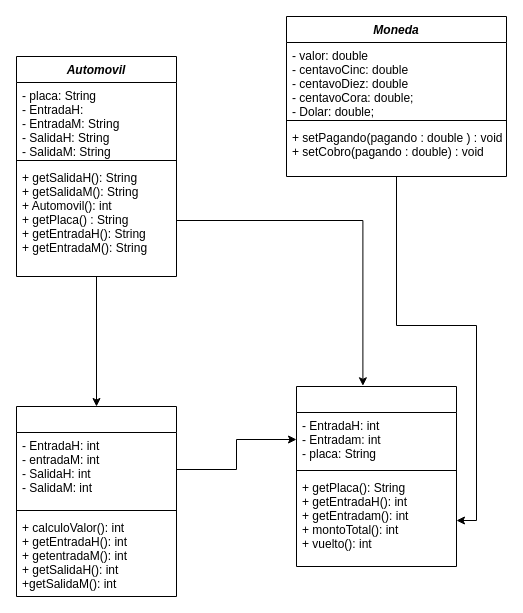
Some shapes in this 523 by 613 pixel diagram are drawn without their labels. Each missing label, with the box of its shape:
RegistroDeTiempo: (16, 406, 176, 596)
Ticket: (296, 386, 456, 566)
